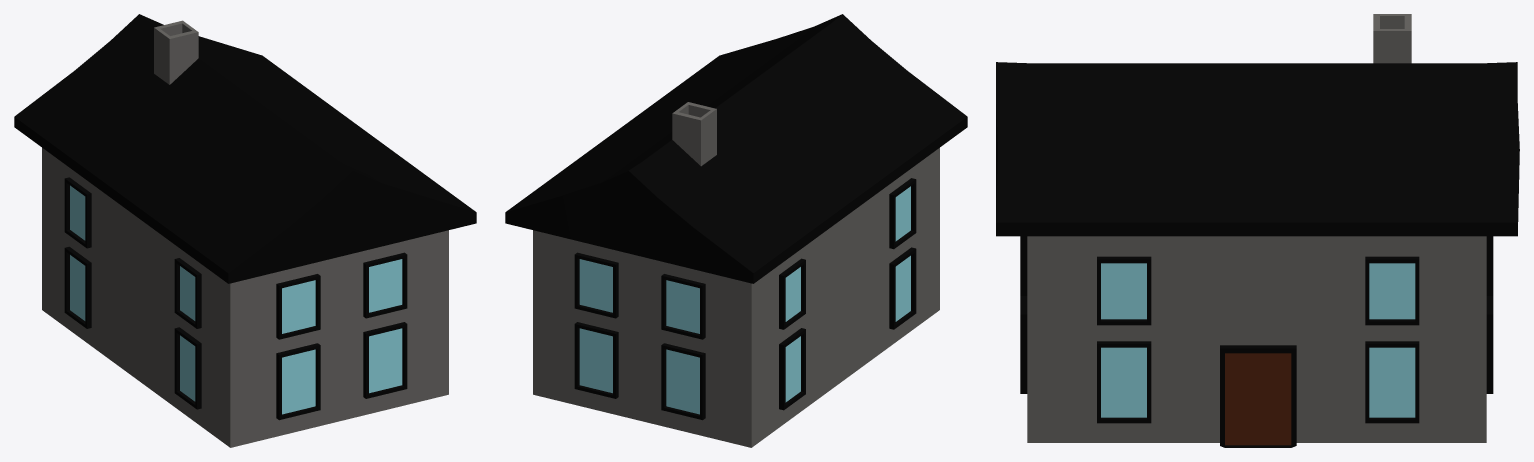
Rendered from Houses08.fbx.
3 renders of one model, left to right at view 1: azimuth 30°, elevation 25°; view 2: azimuth 150°, elevation 25°; view 3: azimuth 270°, elevation 25°, orthographic. The views are drawn at different scales.
Visible parts, largest first — view 1: Plane.006; view 2: Plane.006; view 3: Plane.006.
Part boxes in pixels (x1,y1,x2,y2): Plane.006: (14, 14, 476, 447); Plane.006: (505, 14, 967, 447); Plane.006: (996, 14, 1519, 447).
Size of the model in its own units: 400 by 441 by 600.
